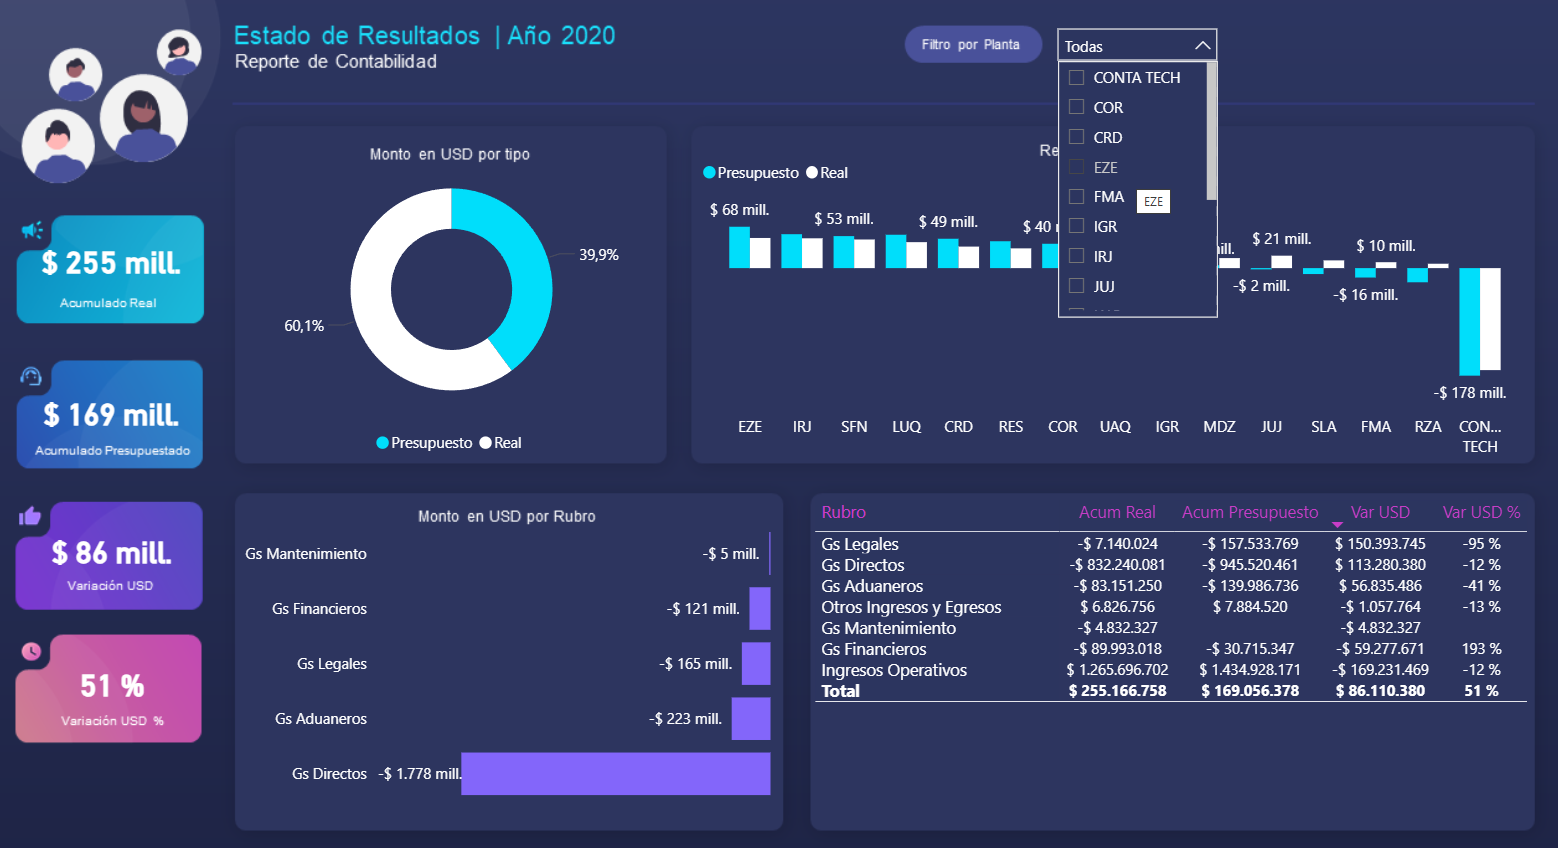

The page's visual inventory and layout, read from the dashboard file:
{"tool":"powerbi","page":{"name":"Tablero","canvas":[1280,720],"ordinal":0},"visuals":[{"type":"pivotTable","fields":{"Rows":["Base.Rubro"],"Values":["Base.Acum Real","Base.Acum Presupuesto","Base.Var USD","Base.Var USD %"]},"box":[666.4,418.6,587.3,266.8],"z":0},{"type":"clusteredColumnChart","title":"Resultado por planta","fields":{"Category":["Base.Planta"],"Series":["Base.TIPO"],"Y":["Sum(Base.Monto USD)"]},"box":[574.6,139.2,671.6,256.2],"z":1000},{"type":"card","title":"Variación USD","fields":{"Values":["Base.Var USD"]},"box":[28.5,418.6,150.8,92.8],"z":2000},{"type":"card","title":"Acumulado Real","fields":{"Values":["Base.Acum Real"]},"box":[28.5,188.7,150.8,84.3],"z":3000},{"type":"card","title":"Variación %","fields":{"Values":["Base.Var USD %"]},"box":[28.5,529.3,150.8,86.5],"z":4000},{"type":"clusteredBarChart","fields":{"Category":["Base.Rubro"],"Y":["Sum(Base.Monto USD)"]},"box":[202.4,418.6,437.6,266.8],"z":5000},{"type":"donutChart","fields":{"Series":["Base.TIPO"],"Y":["Sum(Base.Monto USD)"]},"box":[202.4,139.2,351.1,256.2],"z":6000},{"type":"slicer","fields":{"Values":["Base.Planta"]},"box":[856.1,33.4,149.3,53.6],"z":7000},{"type":"card","title":"Acumulado Real","fields":{"Values":["Base.Acum Presupuesto"]},"box":[28.5,311,150.8,84.3],"z":8000}]}

Visuals, with their boxes on the page's 1280x720 design canvas (x1, y1, x2, y2). These are canvas units, not pixel positions in the 1558x848 screenshot, which may show the page scaled, cropped or inside an application window:
pivotTable - Base.Rubro x Base.Acum Real: box=[666, 419, 1254, 685]
"Resultado por planta" clusteredColumnChart: box=[575, 139, 1246, 395]
"Variación USD" card: box=[28, 419, 179, 511]
"Acumulado Real" card: box=[28, 189, 179, 273]
"Variación %" card: box=[28, 529, 179, 616]
clusteredBarChart - Base.Rubro x Sum(Base.Monto USD): box=[202, 419, 640, 685]
donutChart - Base.TIPO x Sum(Base.Monto USD): box=[202, 139, 554, 395]
slicer - Base.Planta: box=[856, 33, 1005, 87]
"Acumulado Real" card: box=[28, 311, 179, 395]
